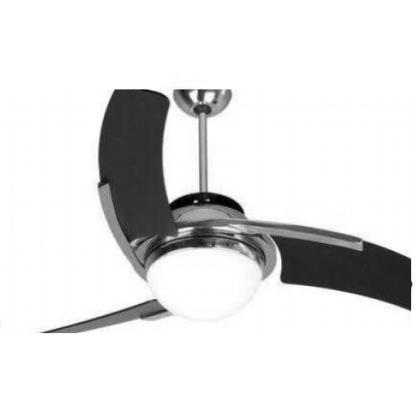ceiling-fan: (2, 89, 412, 334)
